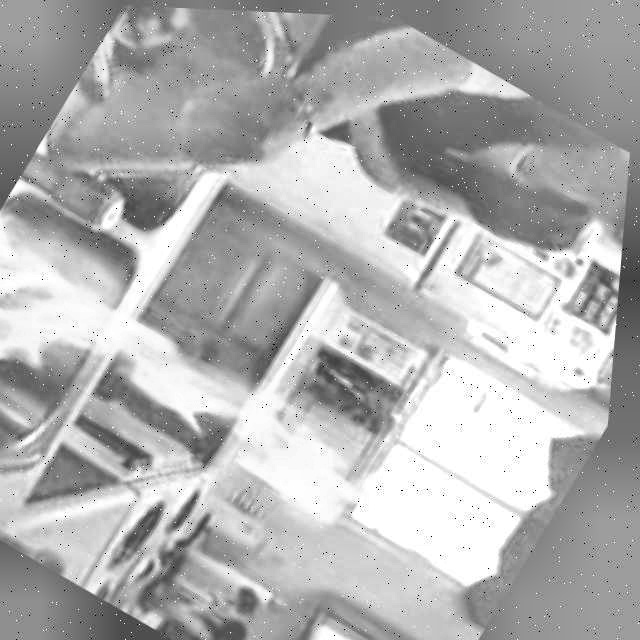Fire: (0, 208, 413, 562)
